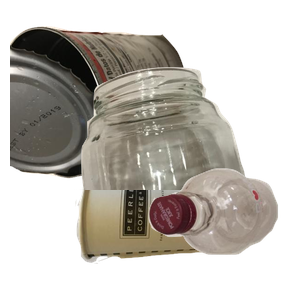glass: (74, 65, 300, 245)
metal: (10, 23, 193, 194)
plastic: (146, 166, 300, 300)
trash: (73, 164, 278, 300)
